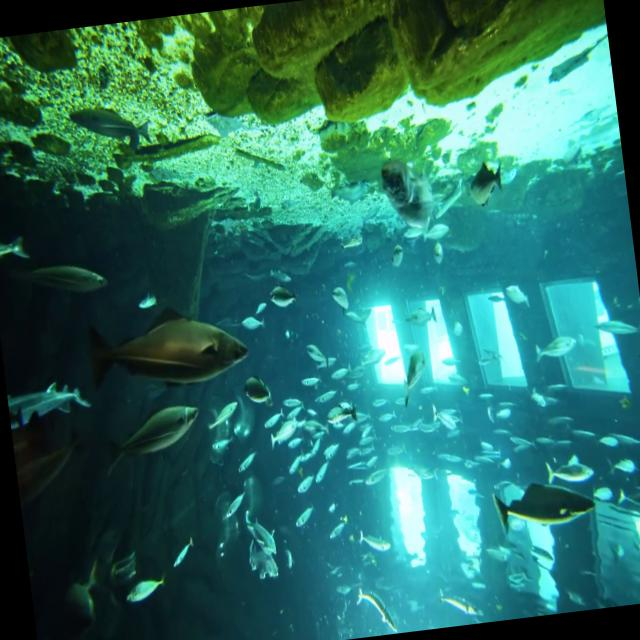fish: (85, 302, 252, 398), (489, 474, 596, 536), (100, 406, 202, 471), (380, 157, 444, 240), (7, 384, 86, 430), (468, 160, 507, 208), (534, 330, 578, 366), (121, 574, 170, 602)
